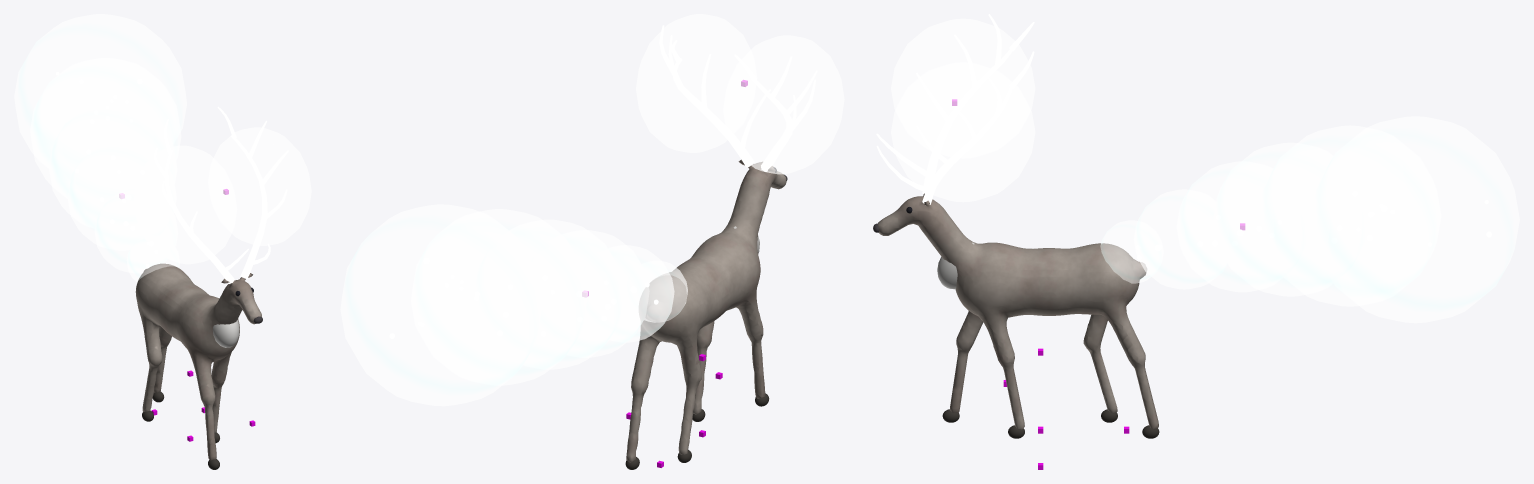
Rendered from 03_renna_cometa.glb.
3 views of the same model, side by side, from view 1: azimuth 30°, elevation 25°; view 2: azimuth 150°, elevation 25°; view 3: azimuth 270°, elevation 25° (orthographic). The views are drawn at different scales.
Visible parts, largest first — view 1: Renna__Coda_Cometa, Renna__Alone_Corna, Renna__Pelo, Renna__Corna_Antenne, Renna__Criniera, Renna__Zoccoli; view 2: Renna__Coda_Cometa, Renna__Alone_Corna, Renna__Pelo, Renna__Corna_Antenne; view 3: Renna__Coda_Cometa, Renna__Alone_Corna, Renna__Pelo, Renna__Corna_Antenne, Renna__Zoccoli.
Part boxes in pixels (bbox=[...]): Renna__Coda_Cometa: bbox=[14, 14, 186, 282]; Renna__Alone_Corna: bbox=[133, 127, 311, 264]; Renna__Pelo: bbox=[135, 263, 261, 460]; Renna__Corna_Antenne: bbox=[153, 106, 288, 283]; Renna__Criniera: bbox=[212, 320, 239, 347]; Renna__Zoccoli: bbox=[142, 391, 219, 469]; Renna__Coda_Cometa: bbox=[340, 204, 687, 406]; Renna__Alone_Corna: bbox=[636, 14, 844, 174]; Renna__Pelo: bbox=[626, 159, 786, 462]; Renna__Corna_Antenne: bbox=[659, 25, 817, 171]; Renna__Coda_Cometa: bbox=[1100, 116, 1519, 323]; Renna__Alone_Corna: bbox=[891, 18, 1035, 202]; Renna__Pelo: bbox=[877, 193, 1158, 429]; Renna__Corna_Antenne: bbox=[876, 14, 1034, 204]; Renna__Zoccoli: bbox=[942, 409, 1159, 438].
Bounding box in the file's own units: 5.35 × 7.61 × 11.28.
Materials: 10 (1 with a texture image).
